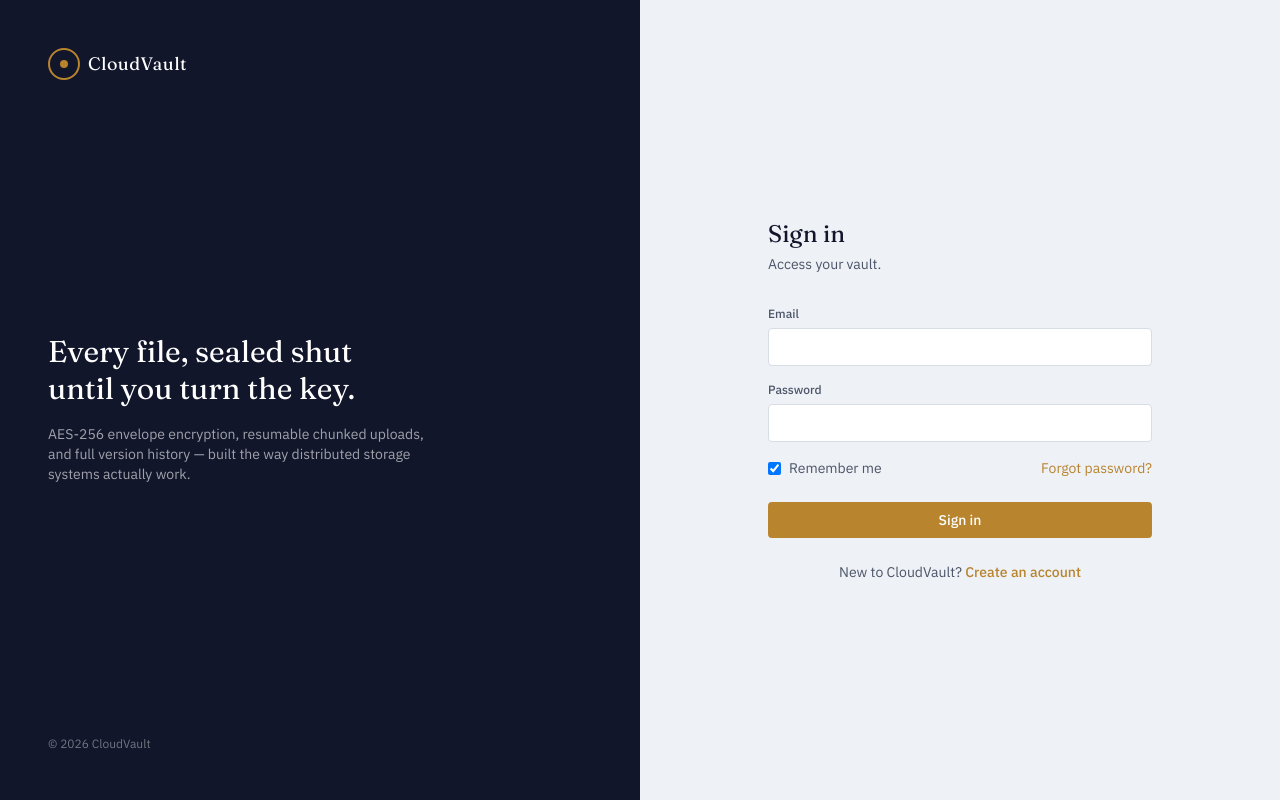
Test: LoginPage › shows an error message when login fails
Type "test@example.com" into the field labelled "Email".
click(960, 347); type("test@example.com")  # box x1=768 y1=328 x2=1152 y2=366
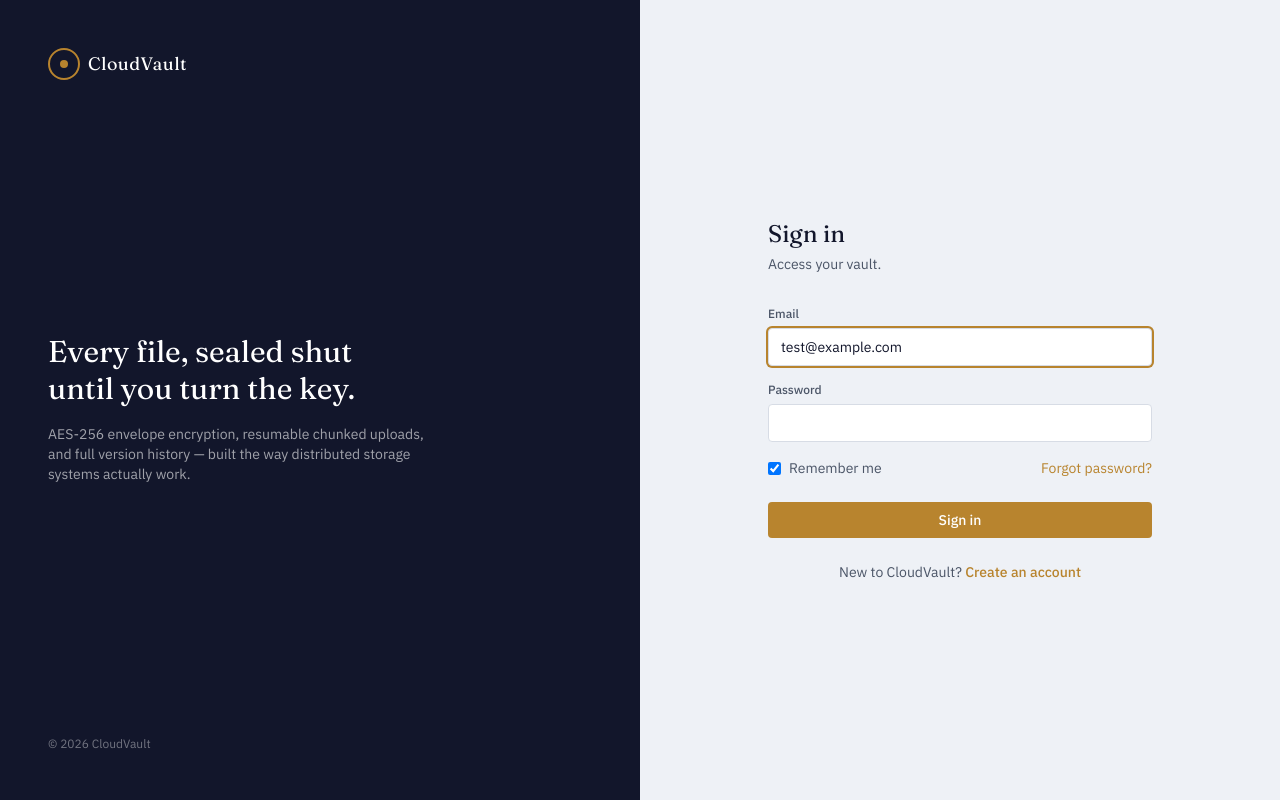
Type "wrongpass" into the password field labelled "Password".
click(960, 423); type("wrongpass")  # box x1=768 y1=404 x2=1152 y2=442
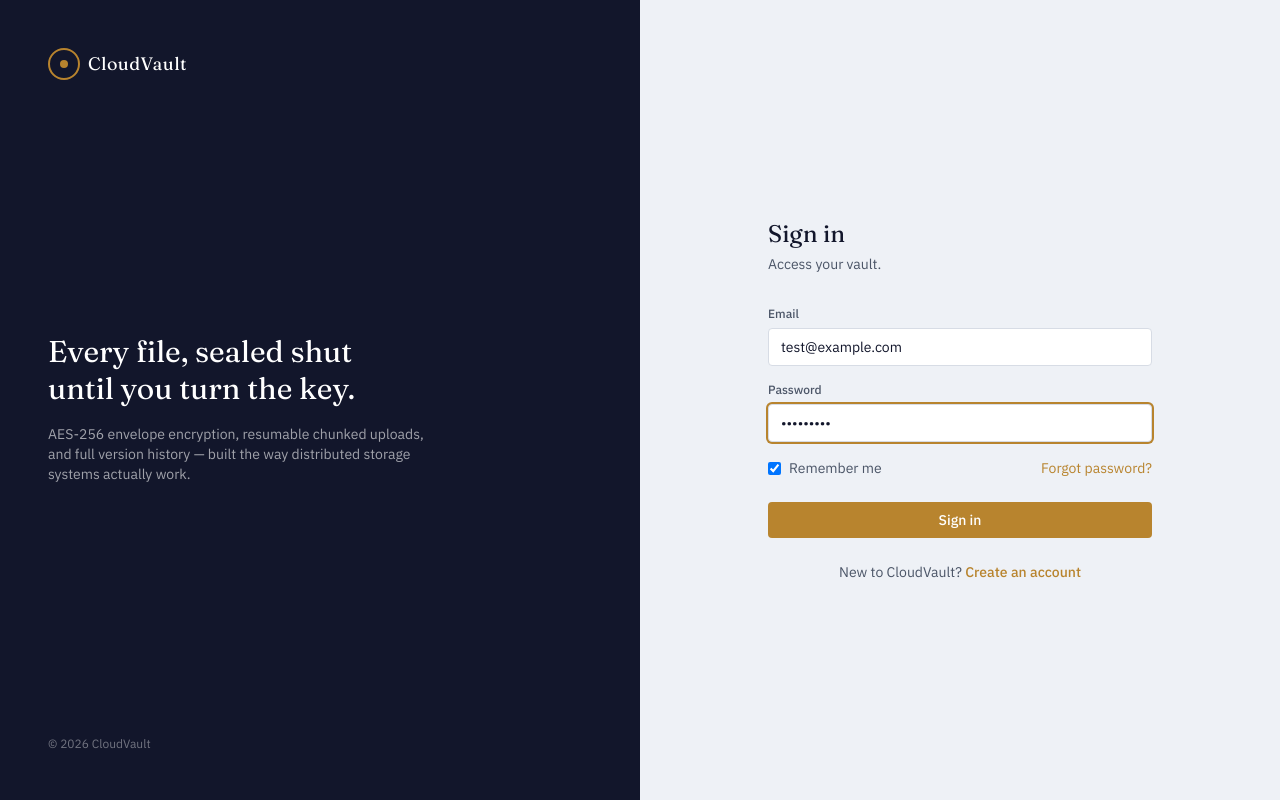
Click the button "Sign in".
click(960, 520)  # box x1=768 y1=502 x2=1152 y2=538
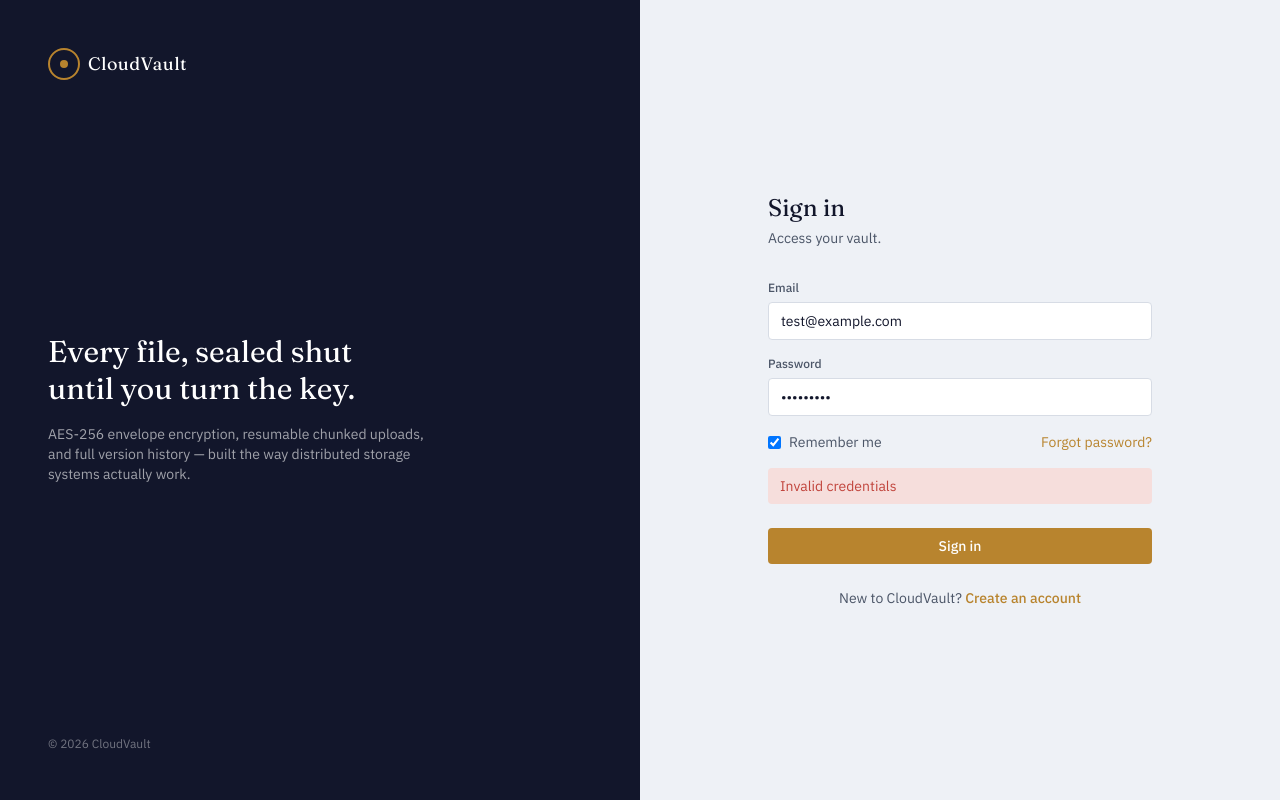
Check: the message reads "Invalid credentials", box x1=780 y1=477 x2=896 y2=495
